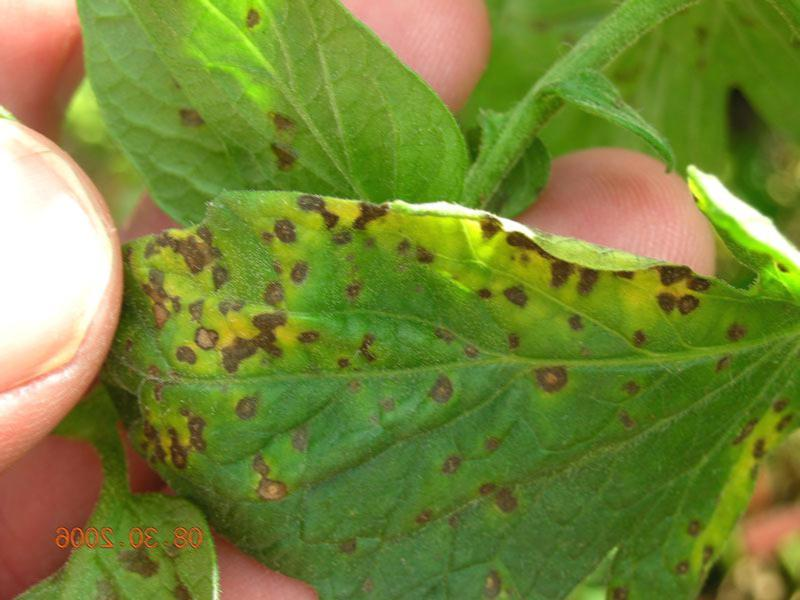Tomato Septoria leaf spot: (106, 207, 797, 567)
